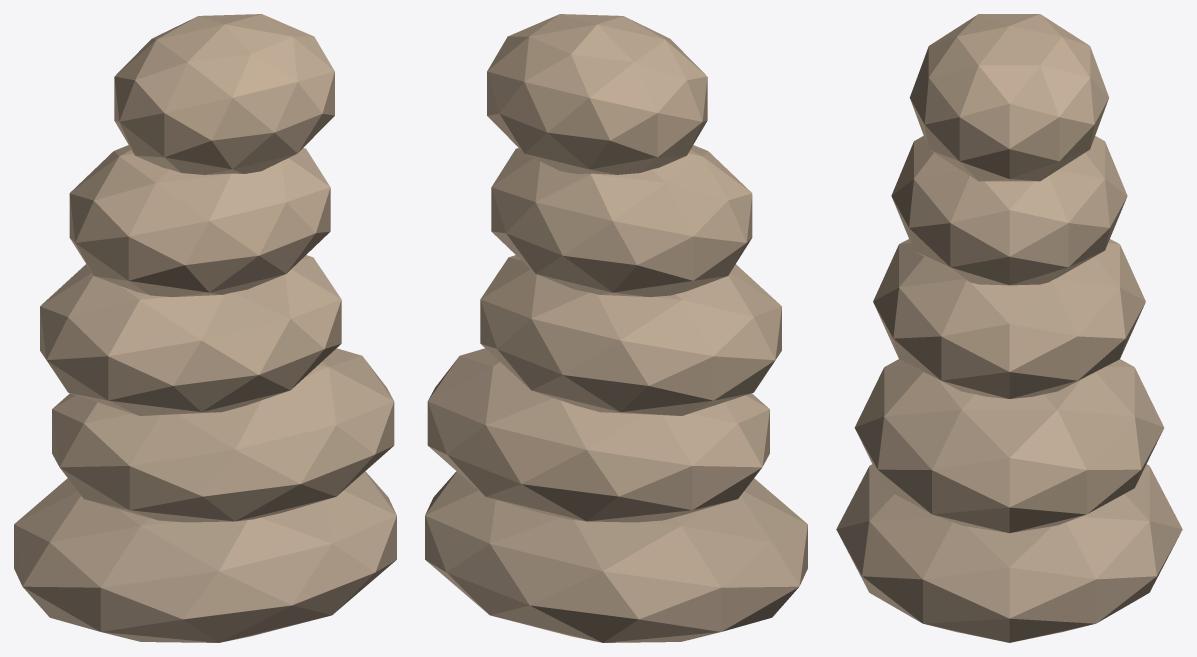
File: cairn_tall.glb
The picture shows the model from 3 angles, left to right: view 1: azimuth 30°, elevation 25°; view 2: azimuth 150°, elevation 25°; view 3: azimuth 270°, elevation 25°; orthographic projection.
Parts seen in each view (by area): view 1: stone_0, stone_1, stone_2, stone_3, stone_4; view 2: stone_0, stone_1, stone_2, stone_3, stone_4; view 3: stone_1, stone_0, stone_2, stone_4, stone_3.
Part boxes in pixels (x1,y1,x2,y2): stone_0: [14, 471, 396, 642]; stone_1: [52, 348, 394, 522]; stone_2: [40, 255, 341, 415]; stone_3: [69, 145, 330, 297]; stone_4: [114, 14, 334, 174]; stone_0: [425, 471, 807, 642]; stone_1: [427, 348, 769, 522]; stone_2: [480, 255, 781, 415]; stone_3: [491, 145, 752, 297]; stone_4: [487, 14, 707, 174]; stone_1: [854, 359, 1164, 533]; stone_0: [836, 464, 1182, 642]; stone_2: [873, 239, 1145, 398]; stone_4: [909, 14, 1109, 181]; stone_3: [891, 136, 1127, 285].
Size of the model in its own units: 0.66 by 1.01 by 0.5412.
